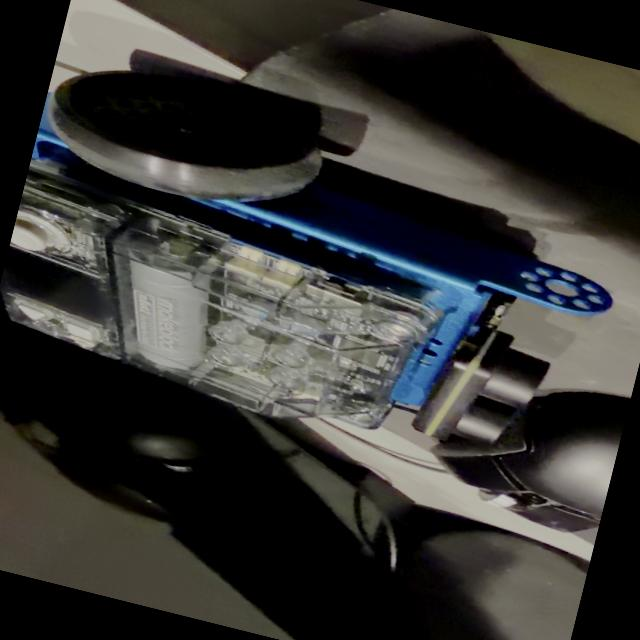mbot-detection: (0, 28, 640, 506)
